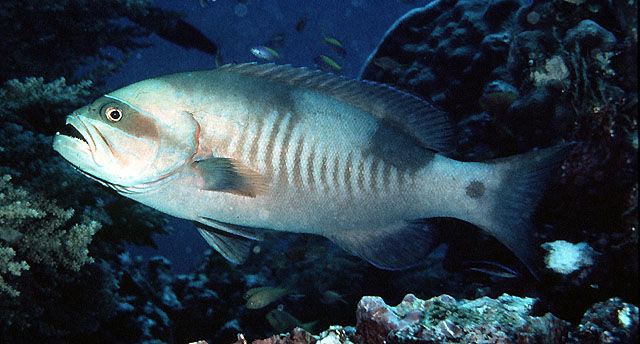fish: (51, 62, 561, 267)
